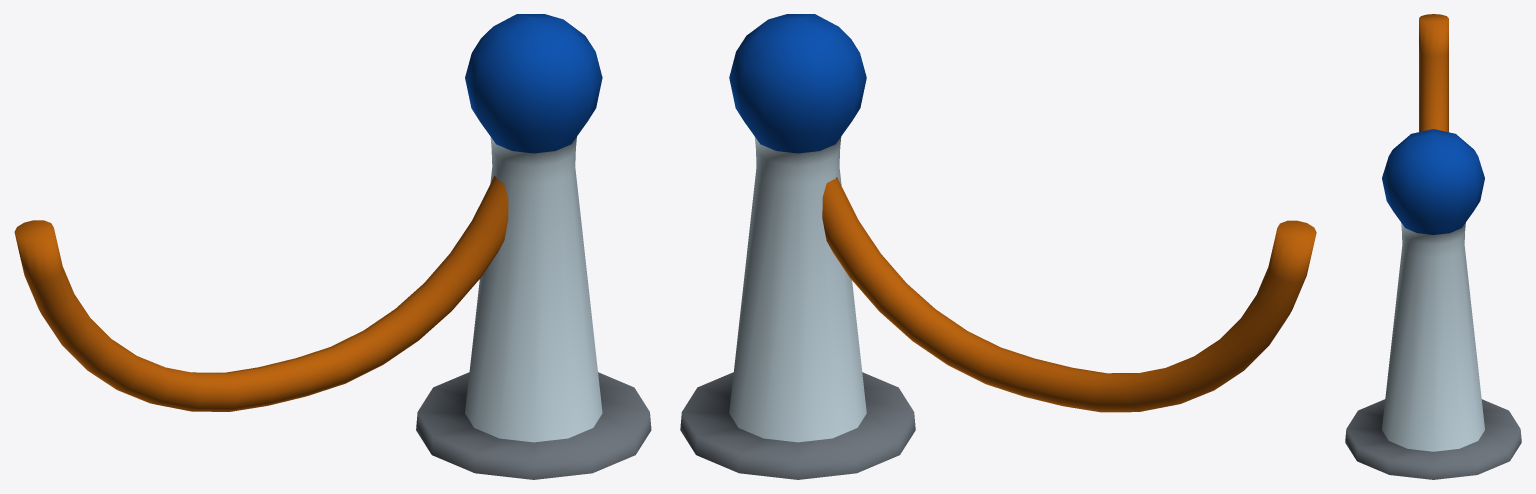
Rendered from Barrier.fbx.
3 renders of one model, left to right at view 1: azimuth 30°, elevation 25°; view 2: azimuth 150°, elevation 25°; view 3: azimuth 270°, elevation 25°, orthographic. The views are drawn at different scales.
Parts seen in each view (by area): view 1: Pole, pCube5; view 2: Pole, pCube5; view 3: Pole, pCube5.
Boxes of the visible parts, x1,y1,x2,y2 form: Pole: (416,14,651,479); pCube5: (14,176,508,411); Pole: (680,14,915,479); pCube5: (822,177,1316,412); Pole: (1345,129,1521,479); pCube5: (1419,14,1448,132).
Size of the model in its own units: 441 by 280 by 145.
1 material, 1 textured.
